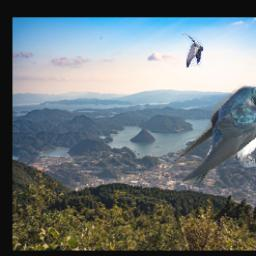Swallow: (168, 85, 256, 183), (182, 31, 203, 67)
